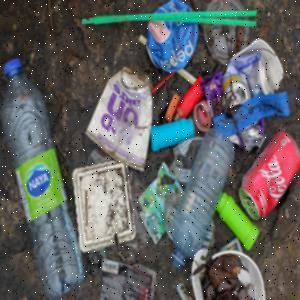Can: (239, 129, 300, 227), (145, 2, 202, 75), (221, 53, 277, 113)
Cup: (85, 65, 155, 175)
Plastic-bottle: (2, 54, 88, 299), (169, 127, 239, 274)
Trash: (71, 161, 142, 256), (98, 257, 162, 300)
